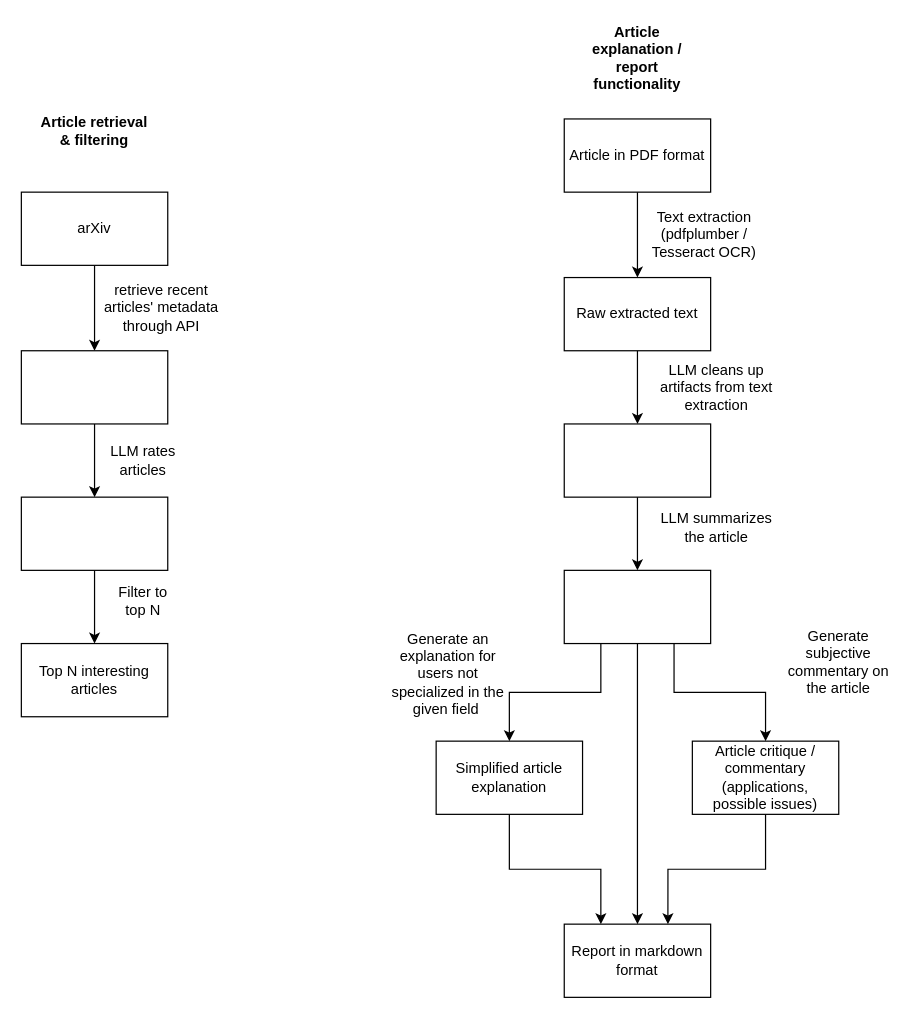
Some shapes in this 921 by 1019 pixel diagram are drawn without their labels. The box of each missing label's shape, as (x1, y1, x2, y2) in pixels:
Article metadata: (20, 350, 168, 424)
Article summary (~1 A4 page): (563, 569, 711, 644)
Articles with ratings (novelty, clarity, impact): (20, 496, 168, 570)
Cleaned article text: (563, 423, 711, 497)
